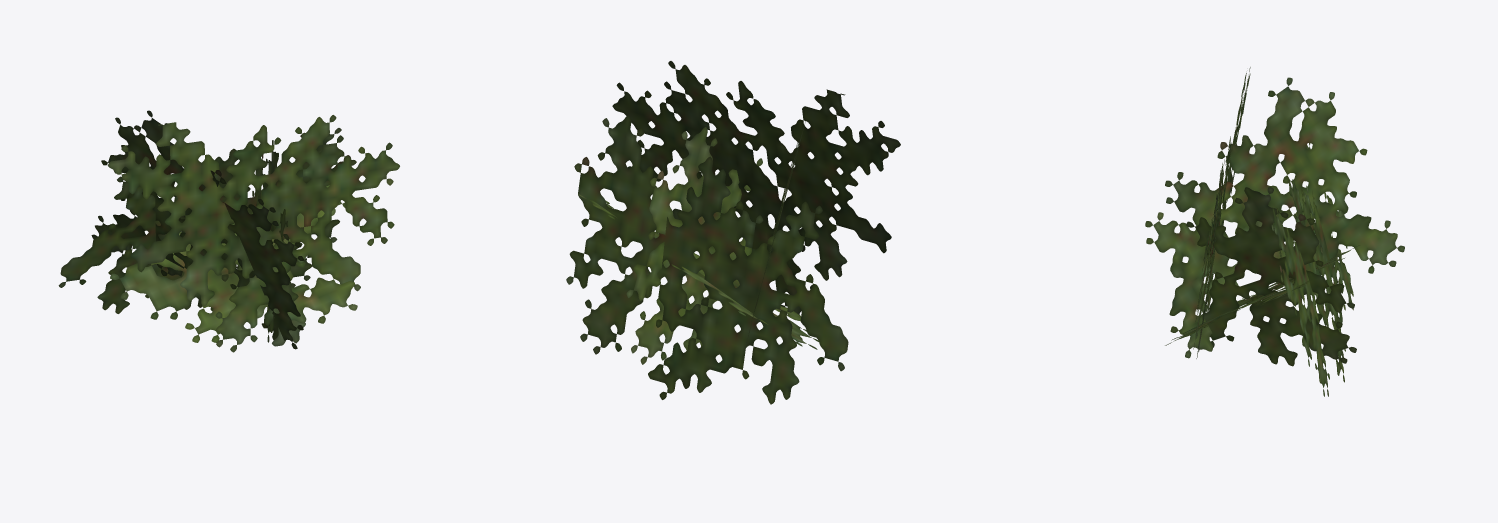
The model's file is pine_leaves_green_vertical_slab_3.obj.
3 views of the same model, side by side, from view 1: azimuth 30°, elevation 25°; view 2: azimuth 150°, elevation 25°; view 3: azimuth 270°, elevation 25° (orthographic). The views are drawn at different scales.
Parts seen in each view (by area): view 1: plane; view 2: plane; view 3: plane.
Boxes of the visible parts, box(x1,y1,x2,y2) form: plane: box(58, 110, 399, 352); plane: box(566, 61, 900, 404); plane: box(1145, 67, 1404, 396).
Bounding box in the file's own units: 1.81 × 1.98 × 2.13.
